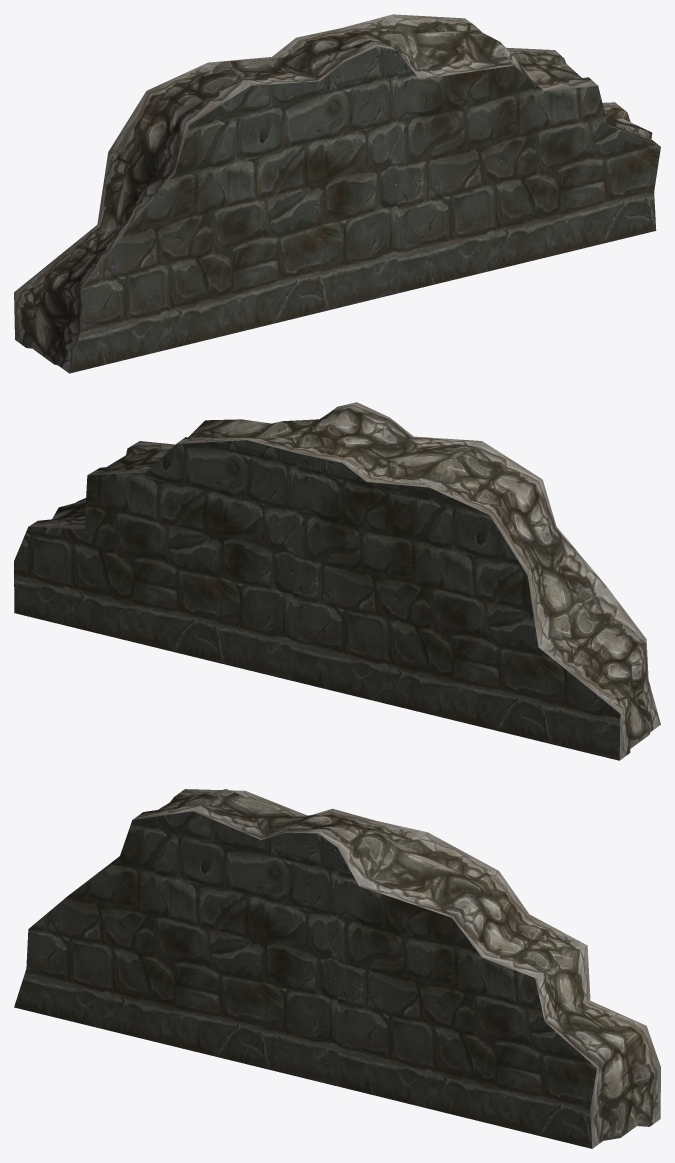
Rendered from Z_qiang003.fbx.
3 renders of one model, top to bottom at view 1: azimuth 30°, elevation 25°; view 2: azimuth 150°, elevation 25°; view 3: azimuth 330°, elevation 25°, orthographic.
Visible parts, largest first — view 1: Z_qiang003; view 2: Z_qiang003; view 3: Z_qiang003.
Boxes of the visible parts, x1,y1,x2,y2 form: Z_qiang003: (14,14,660,373); Z_qiang003: (14,402,660,760); Z_qiang003: (14,789,660,1148).
Size of the model in its own units: 598 by 234 by 81.15.
